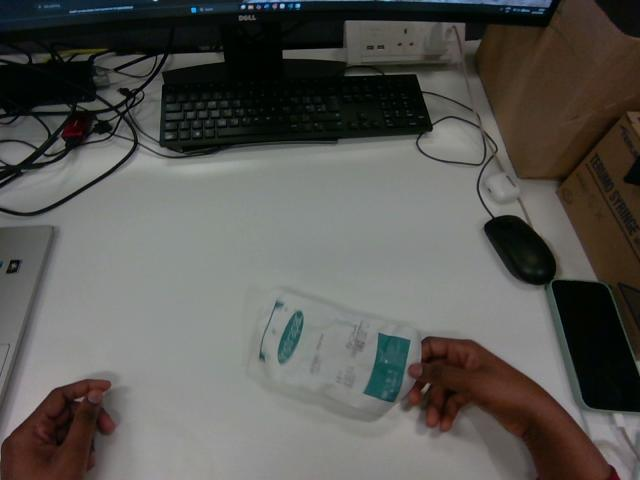gallipot: (249, 290, 420, 415)
